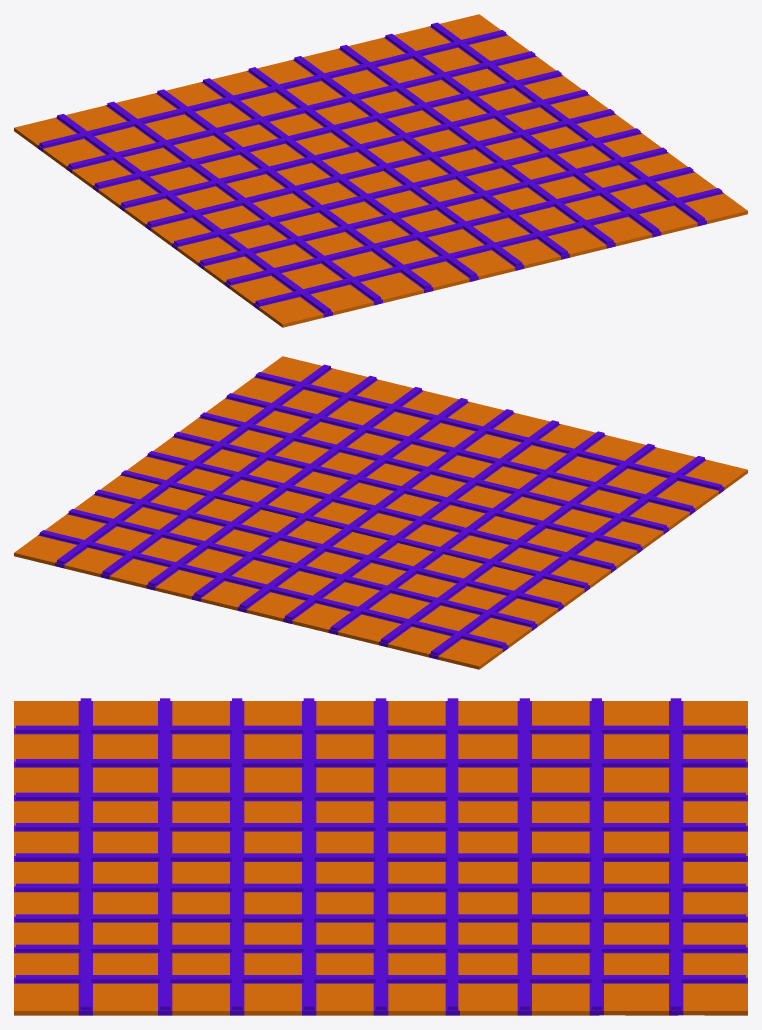
The model's file is Campo.fbx.
3 renders of one model, top to bottom at view 1: azimuth 30°, elevation 25°; view 2: azimuth 150°, elevation 25°; view 3: azimuth 270°, elevation 25°, orthographic. The views are drawn at different scales.
Parts seen in each view (by area): view 1: 10 x 10_barriera_pequena; view 2: 10 x 10_barriera_pequena; view 3: 10 x 10_barriera_pequena.
Boxes of the visible parts, x1,y1,x2,y2 form: 10 x 10_barriera_pequena: (14,14,747,327); 10 x 10_barriera_pequena: (14,356,747,669); 10 x 10_barriera_pequena: (14,698,747,1015).
Bounding box in the file's own units: 2000 × 24.48 × 2000.
